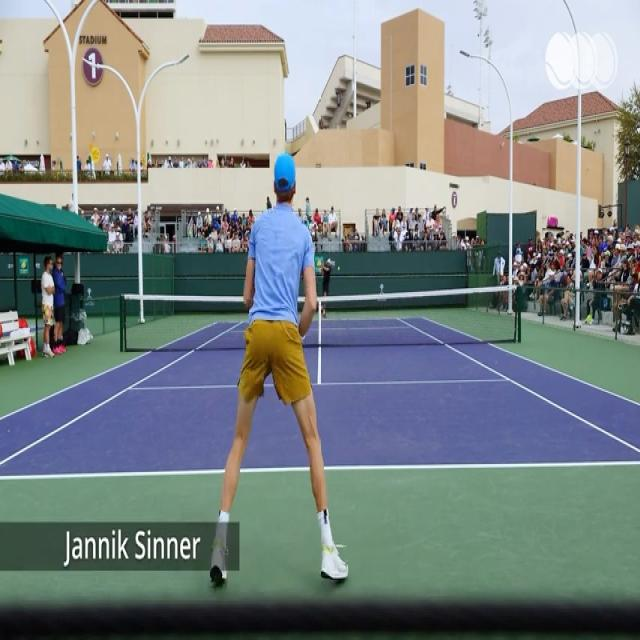ready-position: (212, 154, 353, 589)
